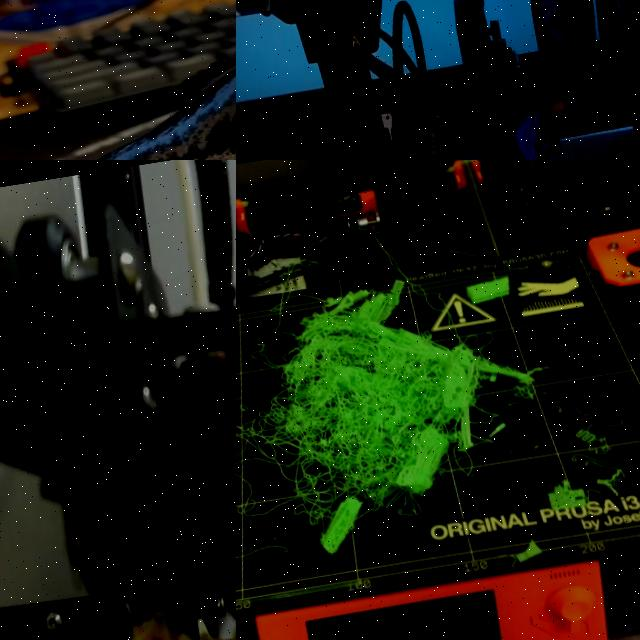spaghetti: (236, 265, 570, 533), (572, 412, 628, 460), (595, 467, 640, 505)
